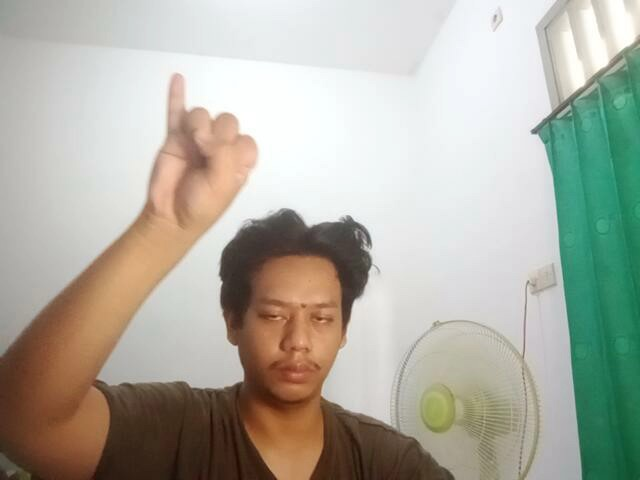I: (137, 67, 266, 234)
